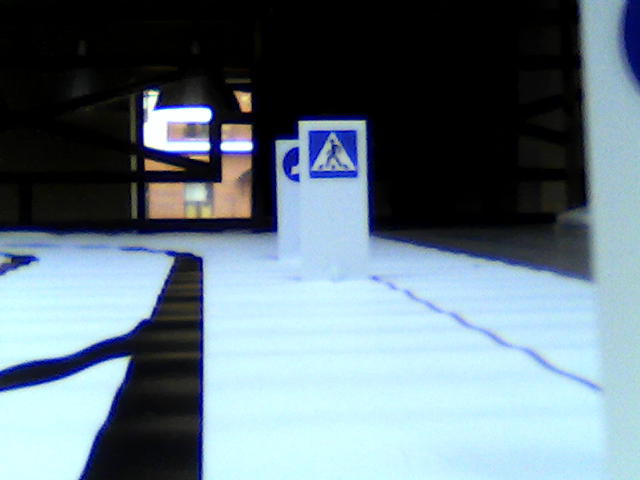pesh: (308, 131, 361, 176)
